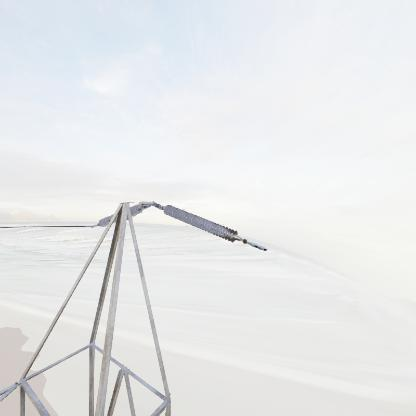insulator: (161, 203, 243, 245)
